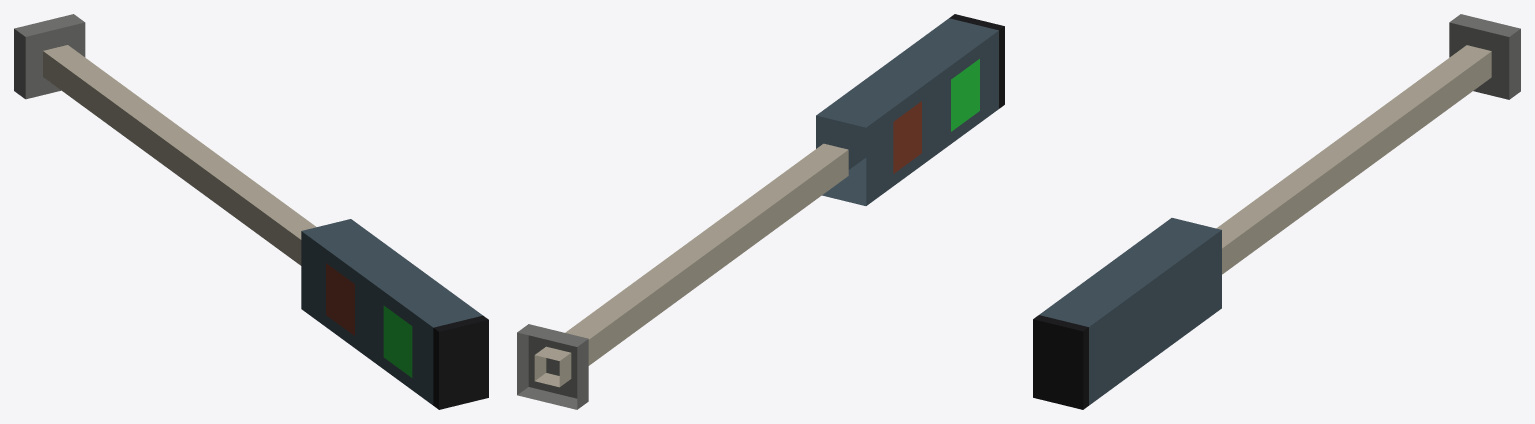
Rendered from green.glb.
3 views of the same model, side by side, from view 1: azimuth 30°, elevation 25°; view 2: azimuth 150°, elevation 25°; view 3: azimuth 330°, elevation 25° (orthographic).
Visible parts, largest first — view 1: signal_electric_path_green; view 2: signal_electric_path_green; view 3: signal_electric_path_green.
Boxes of the visible parts, bbox=[...] form: signal_electric_path_green: bbox=[14, 14, 488, 409]; signal_electric_path_green: bbox=[517, 14, 1004, 409]; signal_electric_path_green: bbox=[1033, 14, 1520, 409].
Size of the model in its own units: 1.22 by 1.5 by 14.8.
